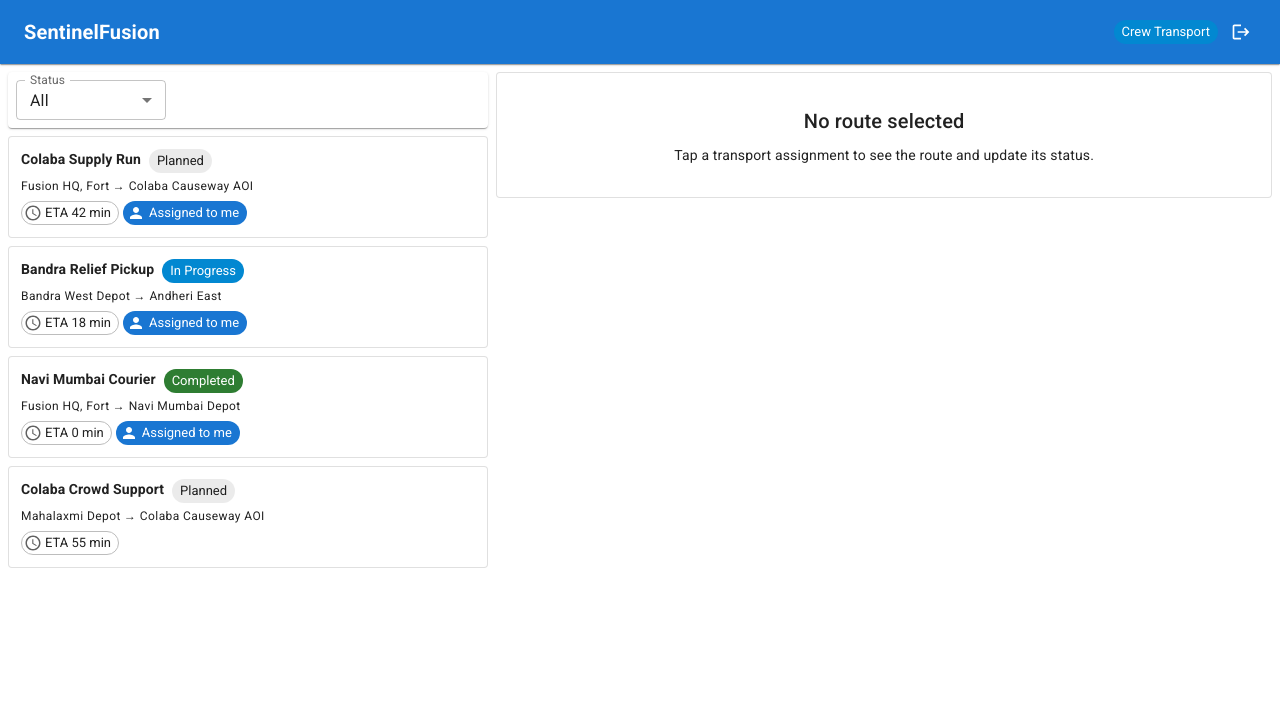
it: CrewTransportView › starts a planned route via the Start action
Click the heading "Colaba Supply Run": point(81, 161) [21,149,141,173]
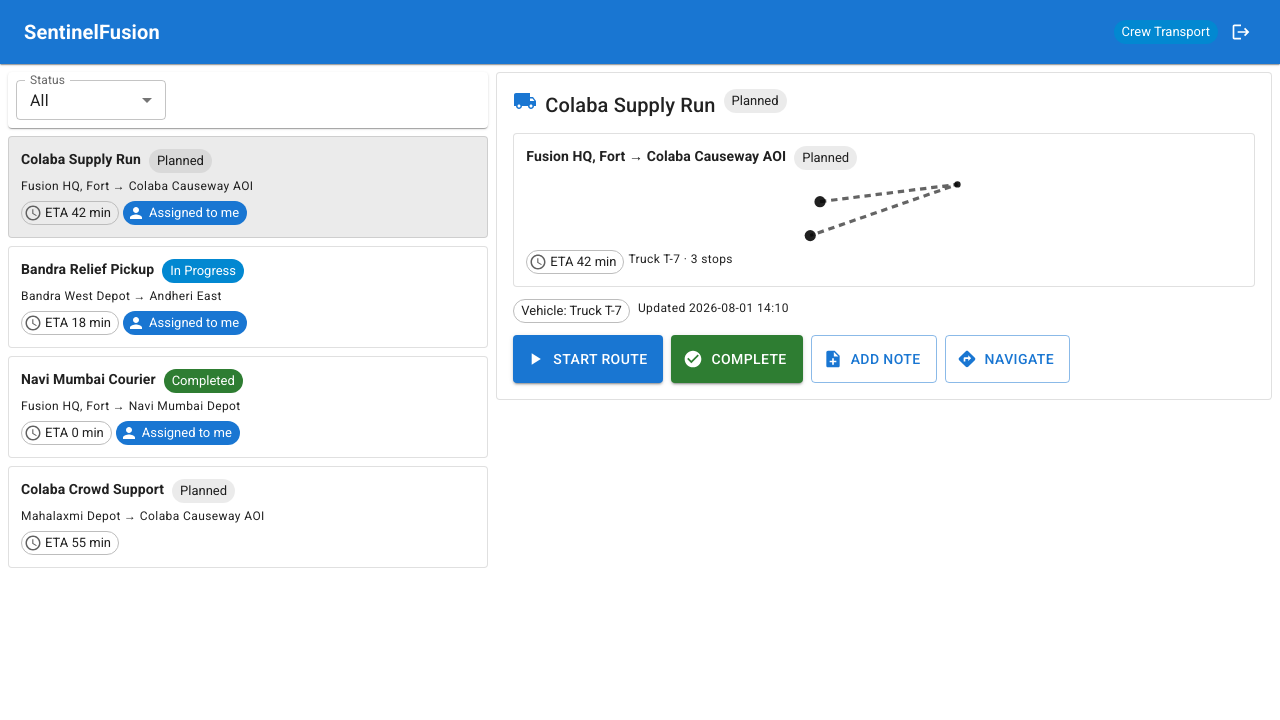
Click the button "Start route": point(588, 359) [513,335,663,383]
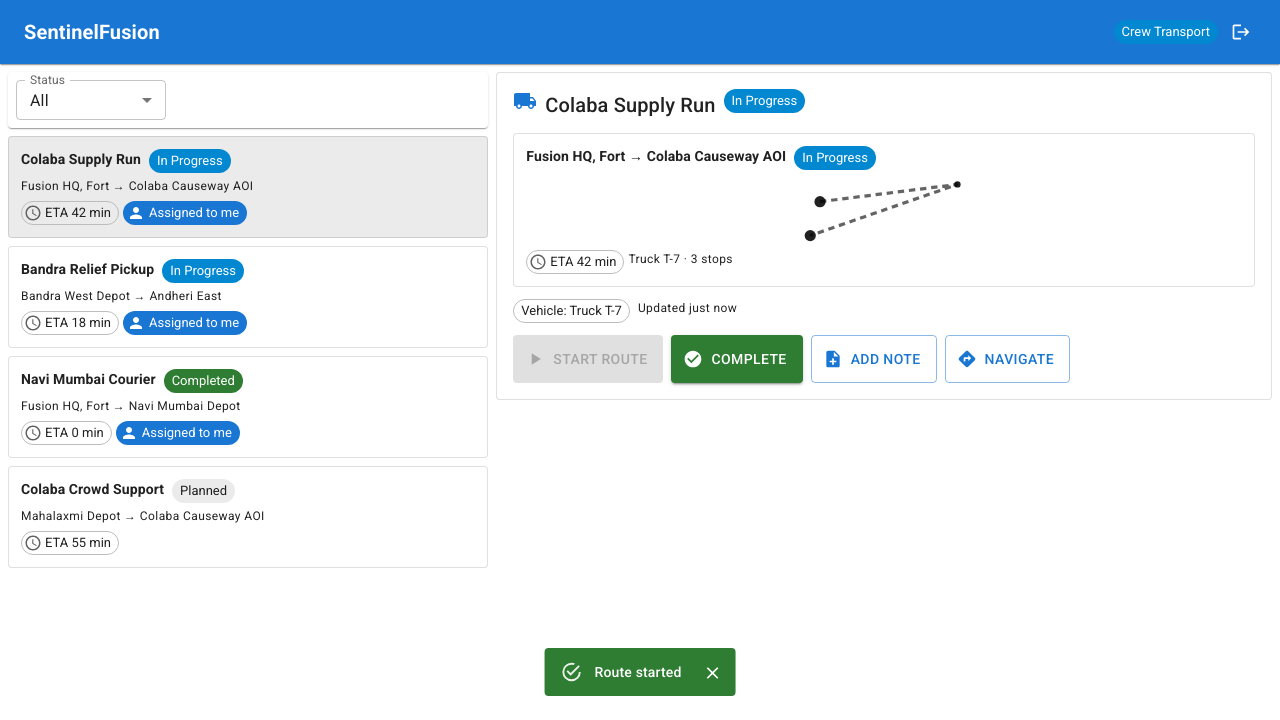
Check: the text "Route started" is shown, box [595,664,682,680]
